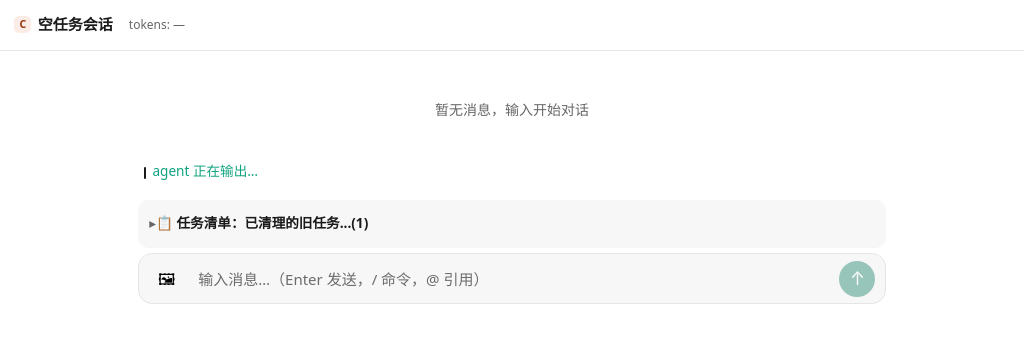
ChatTab send experience › rolls back the optimistic bubble and restores the draft on failure
In the text box with placeholder "输入消息…（Enter 发送，/ 命令，@ 引用）": (512, 280) [189,262,835,296], type "会失败的消息"
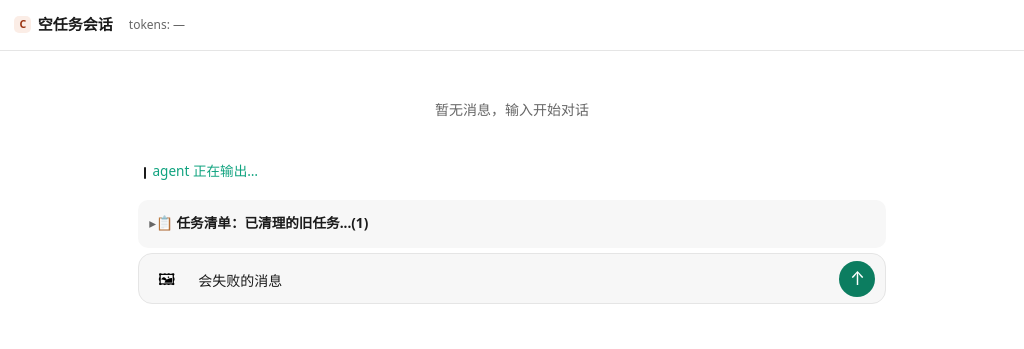
Submit the form with class "chat-input", box [138,253,886,304]
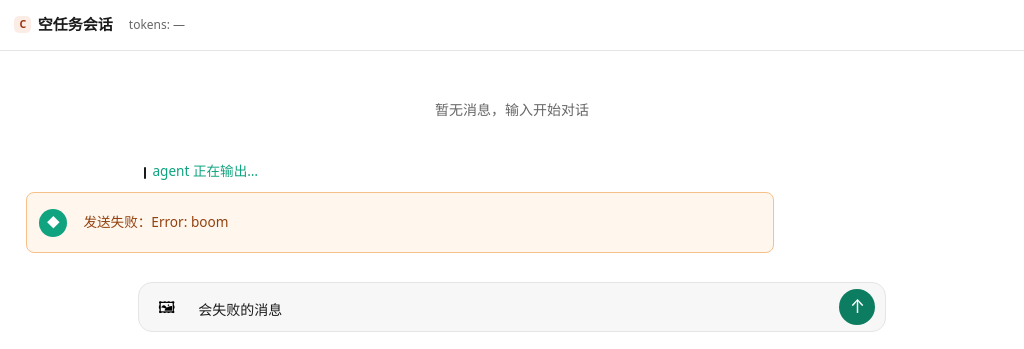
Check: the message with class "chat-send-error-card" shows "boom", box [83,212,228,230]
